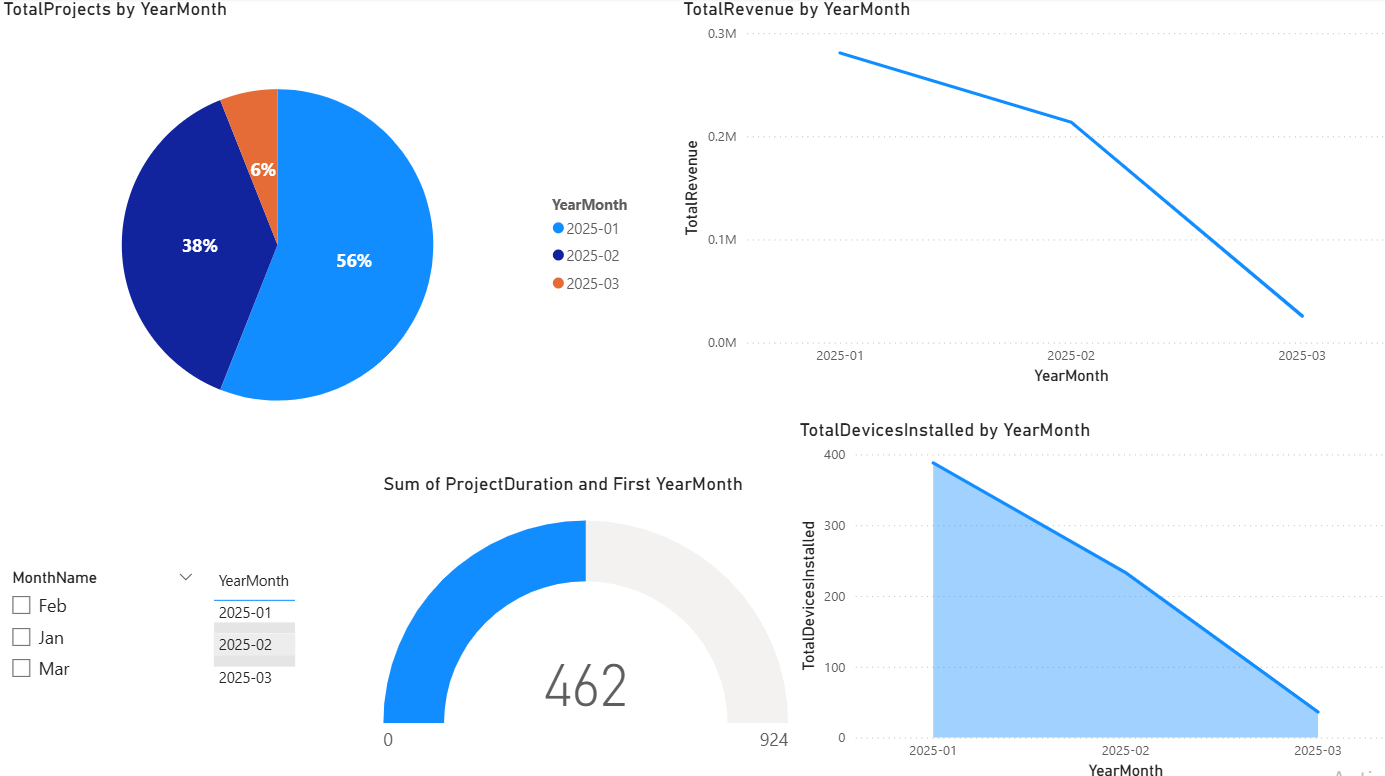

What the dashboard file says about the page in this screenshot:
{"tool":"powerbi","page":{"name":"Monthly Trend","canvas":[1280,720],"ordinal":3},"visuals":[{"type":"lineChart","fields":{"Category":["Date.YearMonth"],"Y":["Projects.TotalRevenue"]},"box":[620.6,0,659.7,359.5],"z":0},{"type":"areaChart","fields":{"Category":["Date.YearMonth"],"Y":["Projects.TotalDevicesInstalled"]},"box":[726.6,384.7,553.8,335.5],"z":1000},{"type":"slicer","fields":{"Values":["Date.MonthName"]},"box":[0,517.2,190.5,203.1],"z":1001},{"type":"tableEx","fields":{"Values":["Date.YearMonth"]},"box":[190.5,517.2,240.9,203.1],"z":1002},{"type":"pieChart","fields":{"Series":["Date.YearMonth"],"Y":["Projects.TotalProjects"]},"box":[0,0,597.9,433.9],"z":1003},{"type":"gauge","fields":{"Y":["Sum(Projects.ProjectDuration)"]},"box":[346.9,433.9,379.7,286.3],"z":1004}]}

Visuals, with their boxes in screenshot pixels (x1, y1, x2, y2), scaled from the page's 1280x720 canvas onto the 1385x776 screenshot:
lineChart - Date.YearMonth x Projects.TotalRevenue: (672, 0, 1384, 387)
areaChart - Date.YearMonth x Projects.TotalDevicesInstalled: (786, 415, 1384, 775)
slicer - Date.MonthName: (0, 557, 206, 775)
tableEx - Date.YearMonth: (206, 557, 467, 775)
pieChart - Date.YearMonth x Projects.TotalProjects: (0, 0, 647, 468)
gauge - Sum(Projects.ProjectDuration): (375, 468, 786, 775)
